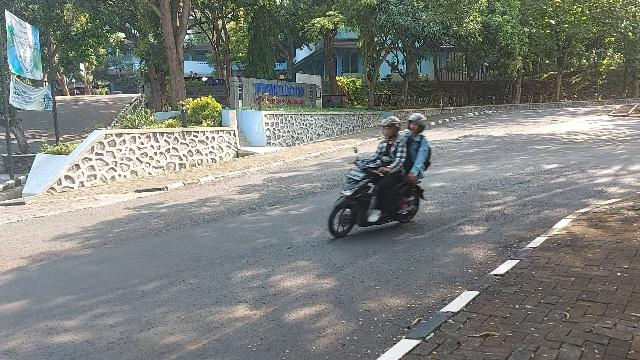helm: (380, 117, 402, 137), (409, 114, 428, 135)
motor: (330, 148, 427, 239)
